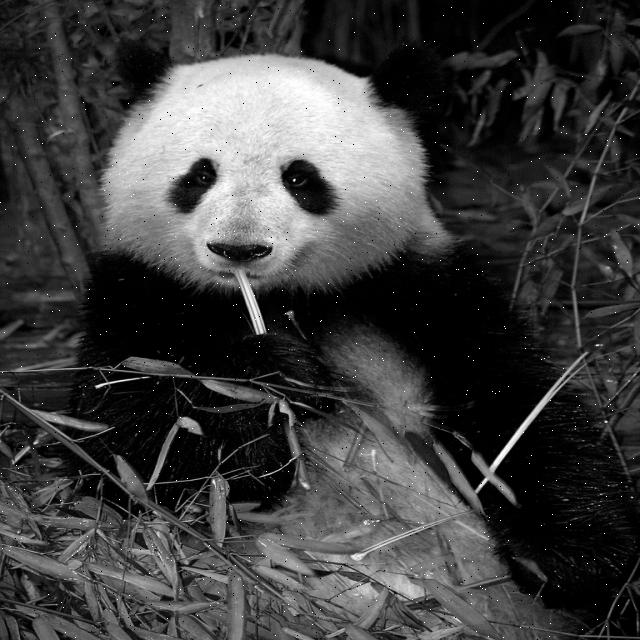panda: (56, 40, 640, 640)
